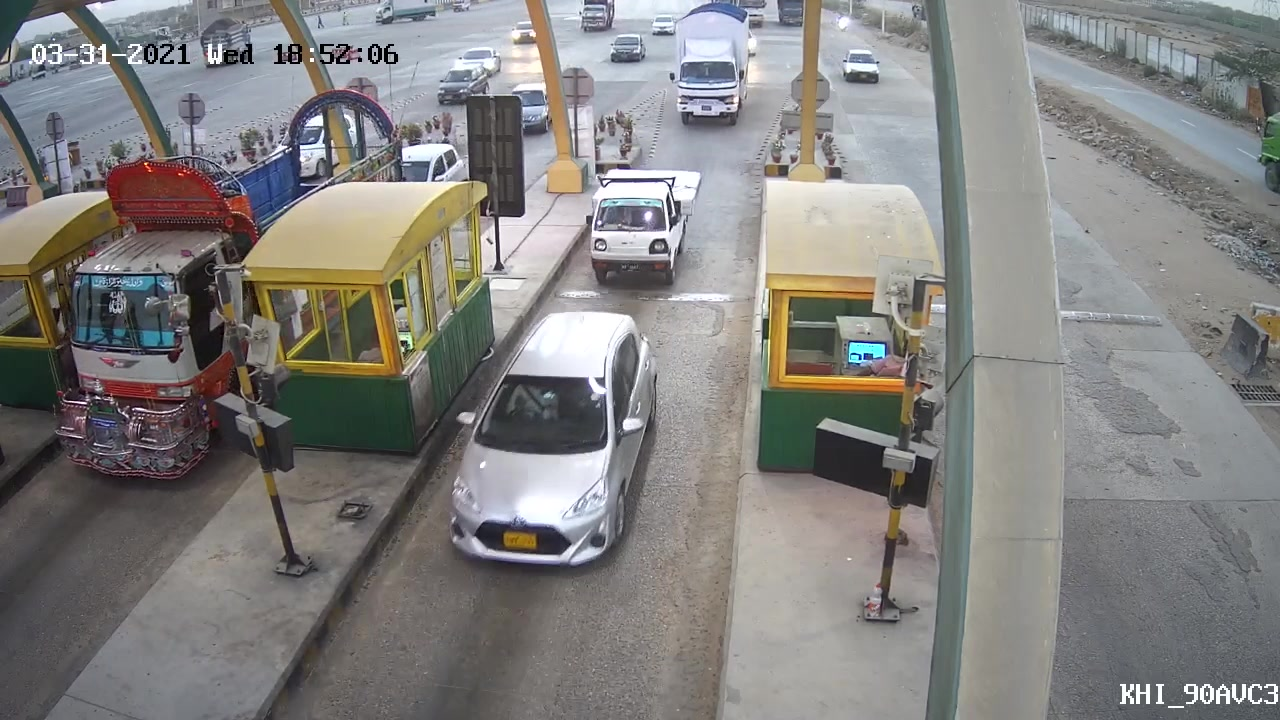F1: (442, 305, 663, 570), (582, 159, 695, 287)
